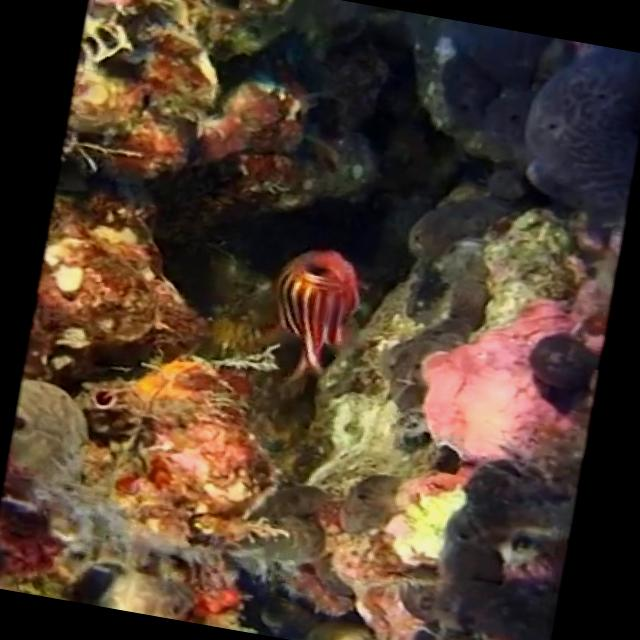Asker Baligi: (256, 238, 371, 382)
